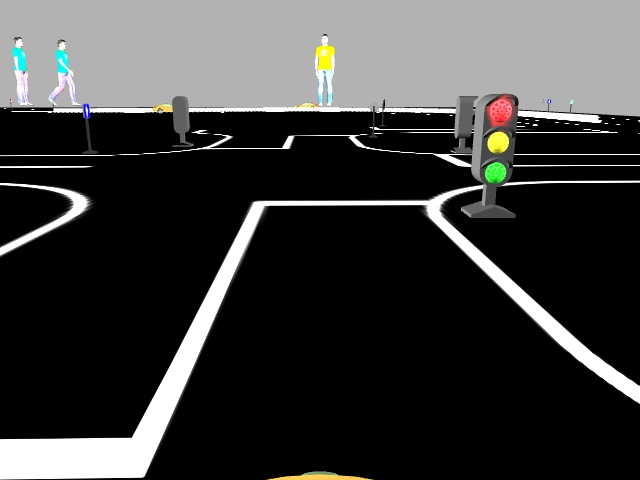TrafficLight: (469, 90, 520, 184)
